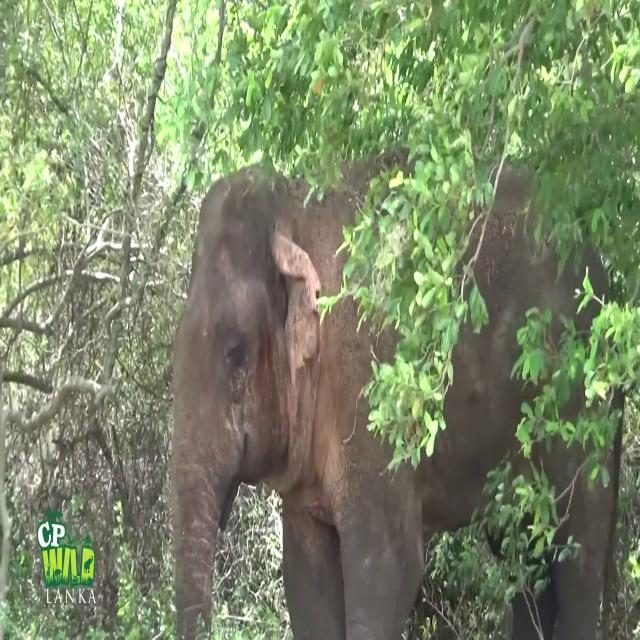Elephant: (169, 146, 624, 639)
